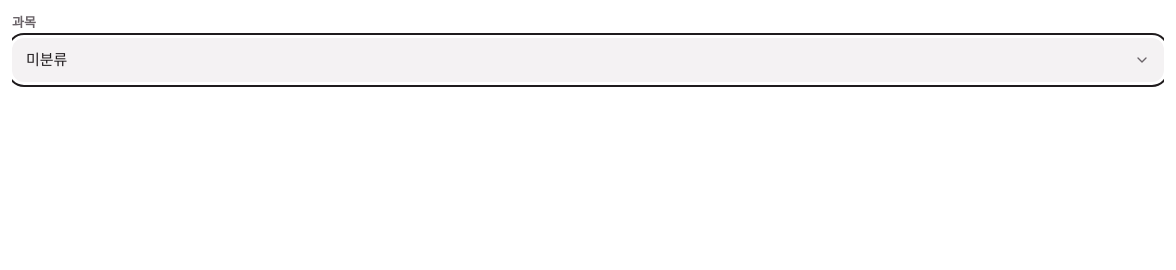
AppSelect › selects stable values with the keyboard and preserves an explicit empty option
The image size is (1176, 270).
Press ArrowDown in the dropdown named "과목", box [12,38,1164,82]
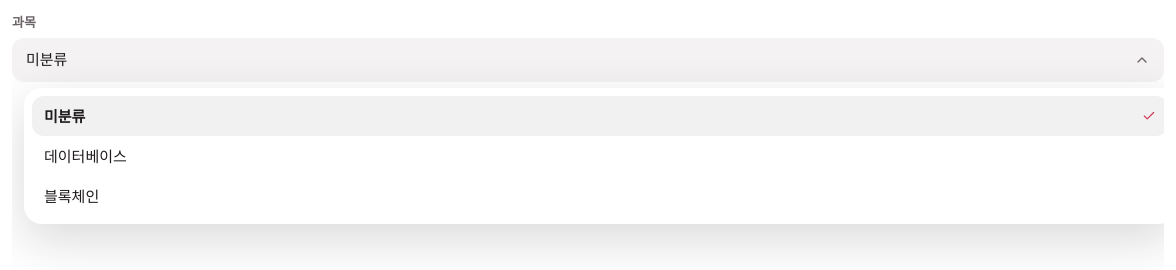
Press ArrowDown in the option "미분류", box [32,96,1164,136]
Press Enter in the option "데이터베이스", box [32,136,1164,176]
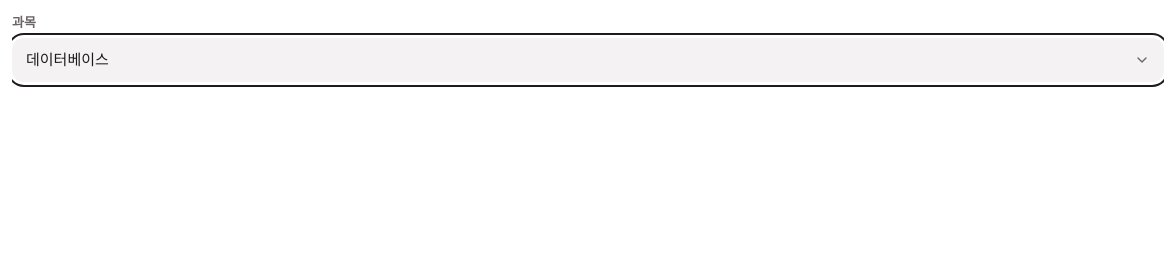
Check: the dropdown named "과목" reads "데이터베이스"
Press ArrowDown in the dropdown named "과목", box [12,38,1164,82]
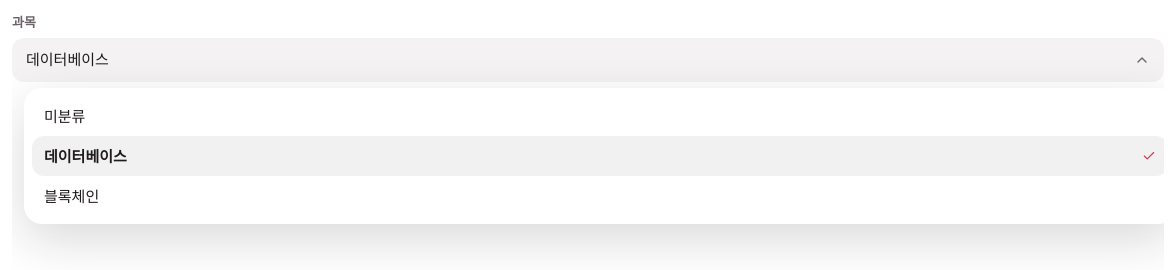
Click the option "미분류". click: (65, 115)
box: [44,105,85,126]
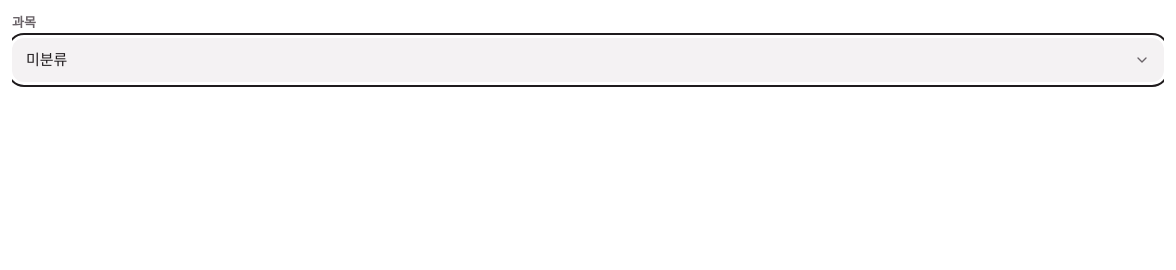
Check: the dropdown named "과목" reads "미분류", box [12,38,1164,82]
